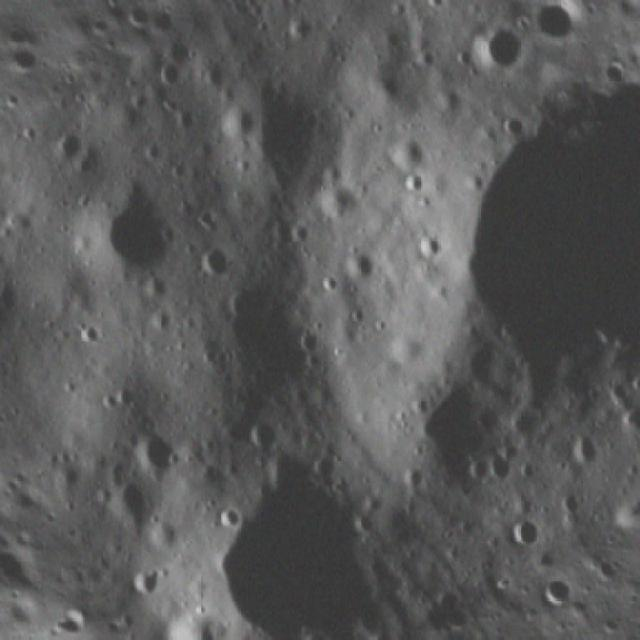crater: (397, 92, 640, 416), (156, 411, 438, 640), (67, 165, 205, 303), (455, 8, 540, 90), (98, 470, 173, 550), (121, 413, 197, 490), (137, 587, 242, 640), (111, 553, 183, 619), (309, 173, 373, 239), (555, 418, 616, 482), (235, 401, 293, 464), (187, 238, 244, 296), (201, 489, 257, 546), (470, 439, 524, 495), (334, 242, 384, 298), (44, 120, 96, 172), (503, 512, 555, 563), (213, 102, 264, 153), (148, 54, 194, 100), (291, 618, 351, 640), (0, 162, 14, 208)
